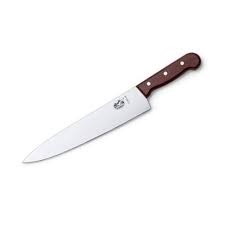kuchillu: (19, 51, 203, 166)
